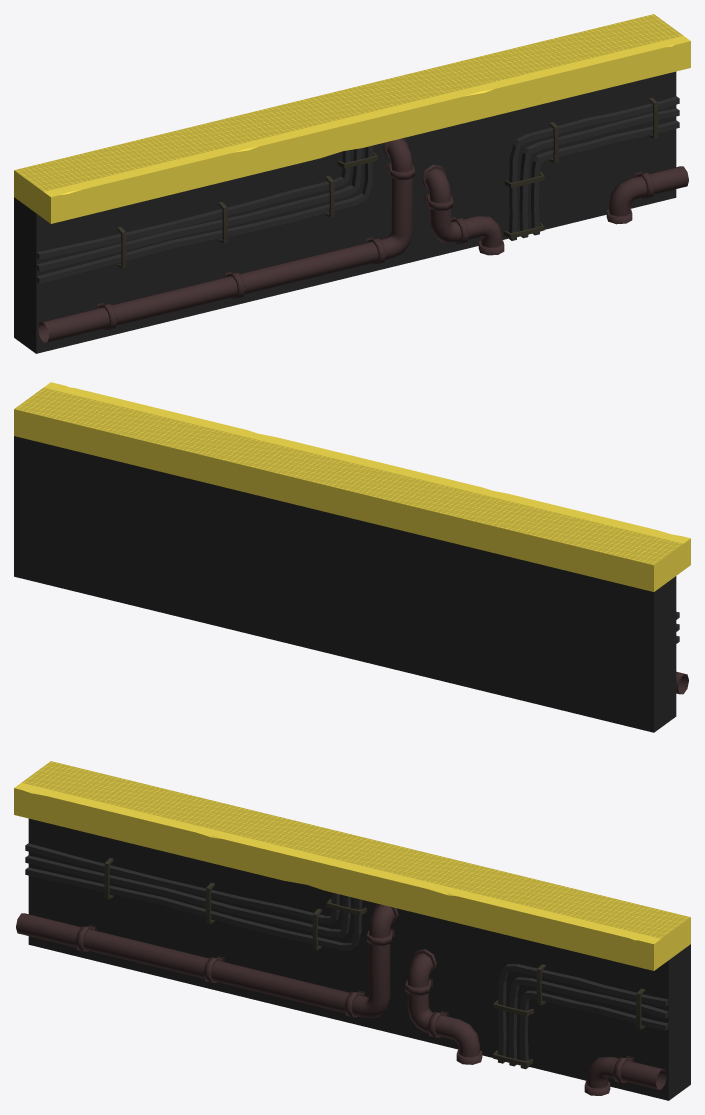
The model's file is SW_ENV_PlatformEdge_A_05m_FF.fbx.
3 views of the same model, one above another, from view 1: azimuth 30°, elevation 25°; view 2: azimuth 150°, elevation 25°; view 3: azimuth 330°, elevation 25° (orthographic).
Parts seen in each view (by area): view 1: SW_ENV_PlatformEdge_A_05m_FF; view 2: SW_ENV_PlatformEdge_A_05m_FF; view 3: SW_ENV_PlatformEdge_A_05m_FF.
Boxes of the visible parts, x1=… form: SW_ENV_PlatformEdge_A_05m_FF: x1=14, y1=14, x2=690, y2=353; SW_ENV_PlatformEdge_A_05m_FF: x1=14, y1=382, x2=690, y2=732; SW_ENV_PlatformEdge_A_05m_FF: x1=14, y1=761, x2=690, y2=1100.
Bounding box in the file's own units: 5 × 1.25 × 0.5.
